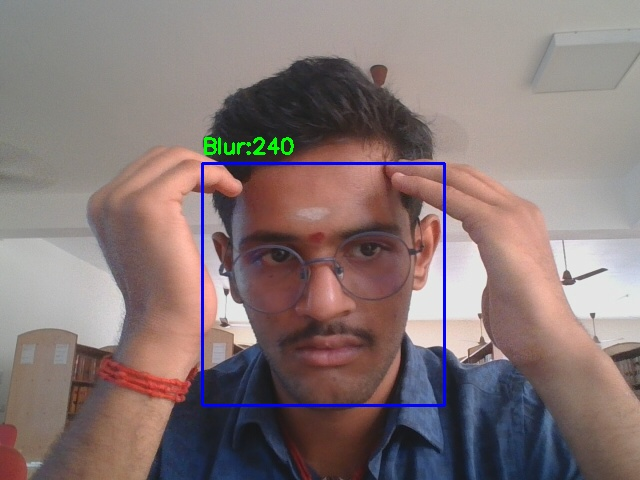real: (202, 163, 444, 405)
